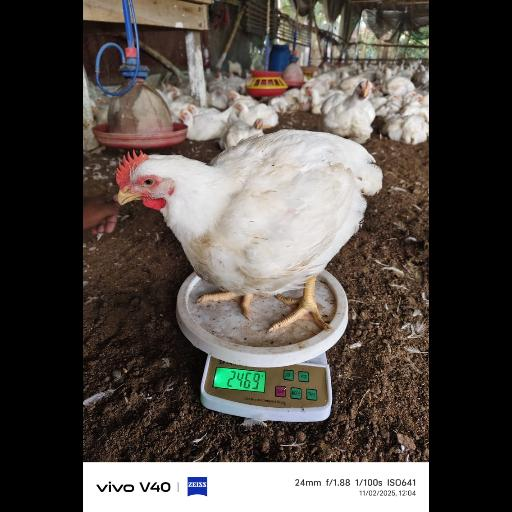chick: (115, 127, 387, 335)
